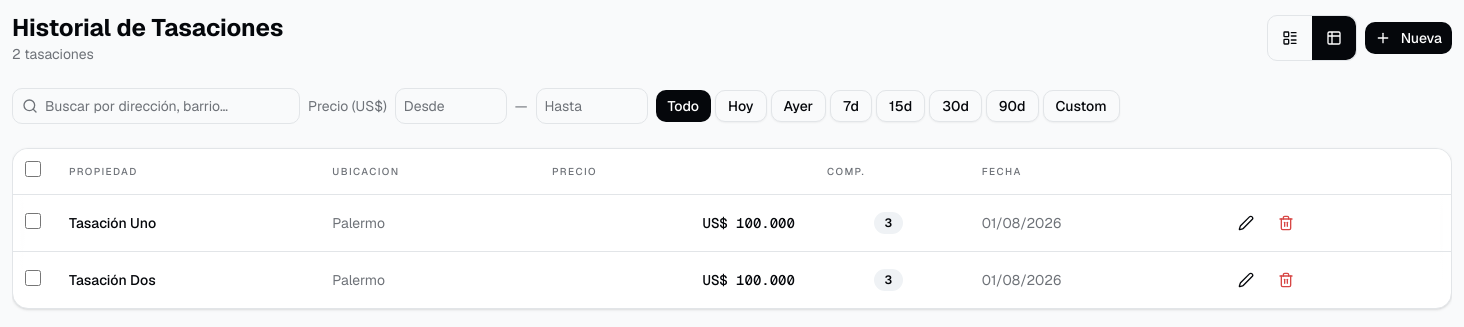
Test: AppraisalsPage — un borrado rechazado NO saca la fila (D7) › un borrado ACEPTADO sí saca la fila y baja el contador
The image size is (1464, 327).
Check: the text "Tasación Uno" is shown, box [69,214,156,232]
What coordinates should you click on to do the following:
click the button named "Eliminar tasación" in the row of "Tasación Uno"
I would click on:
 (1286, 223)
Its box is [1268,207,1304,239].
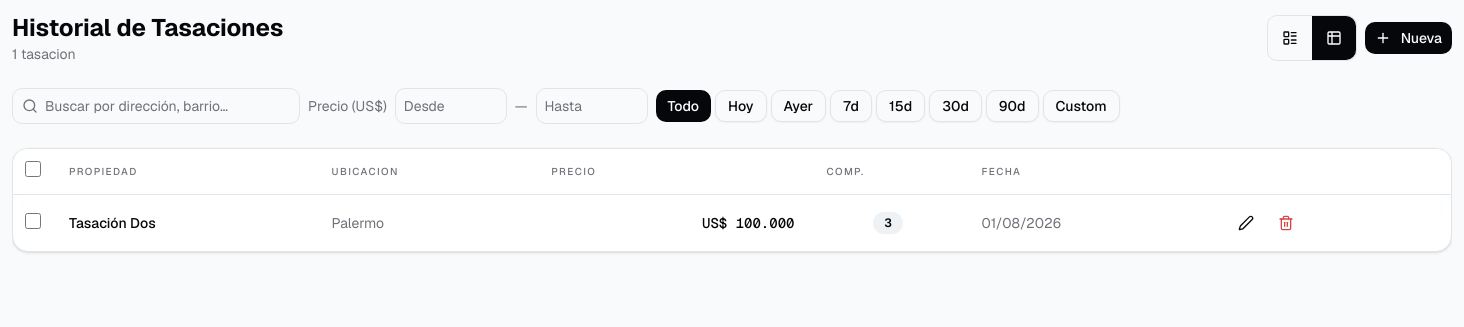
Check: the text "Tasación Uno" is gone
Check: the text "1 tasacion" is shown, box [12,45,76,63]
